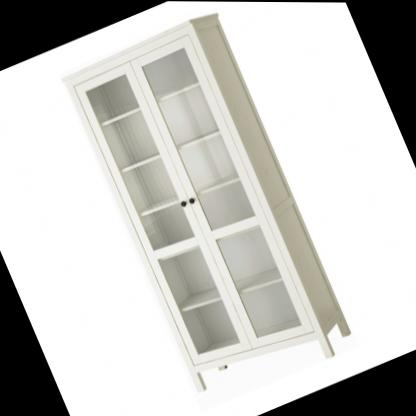Cabinet: (52, 3, 361, 415)
